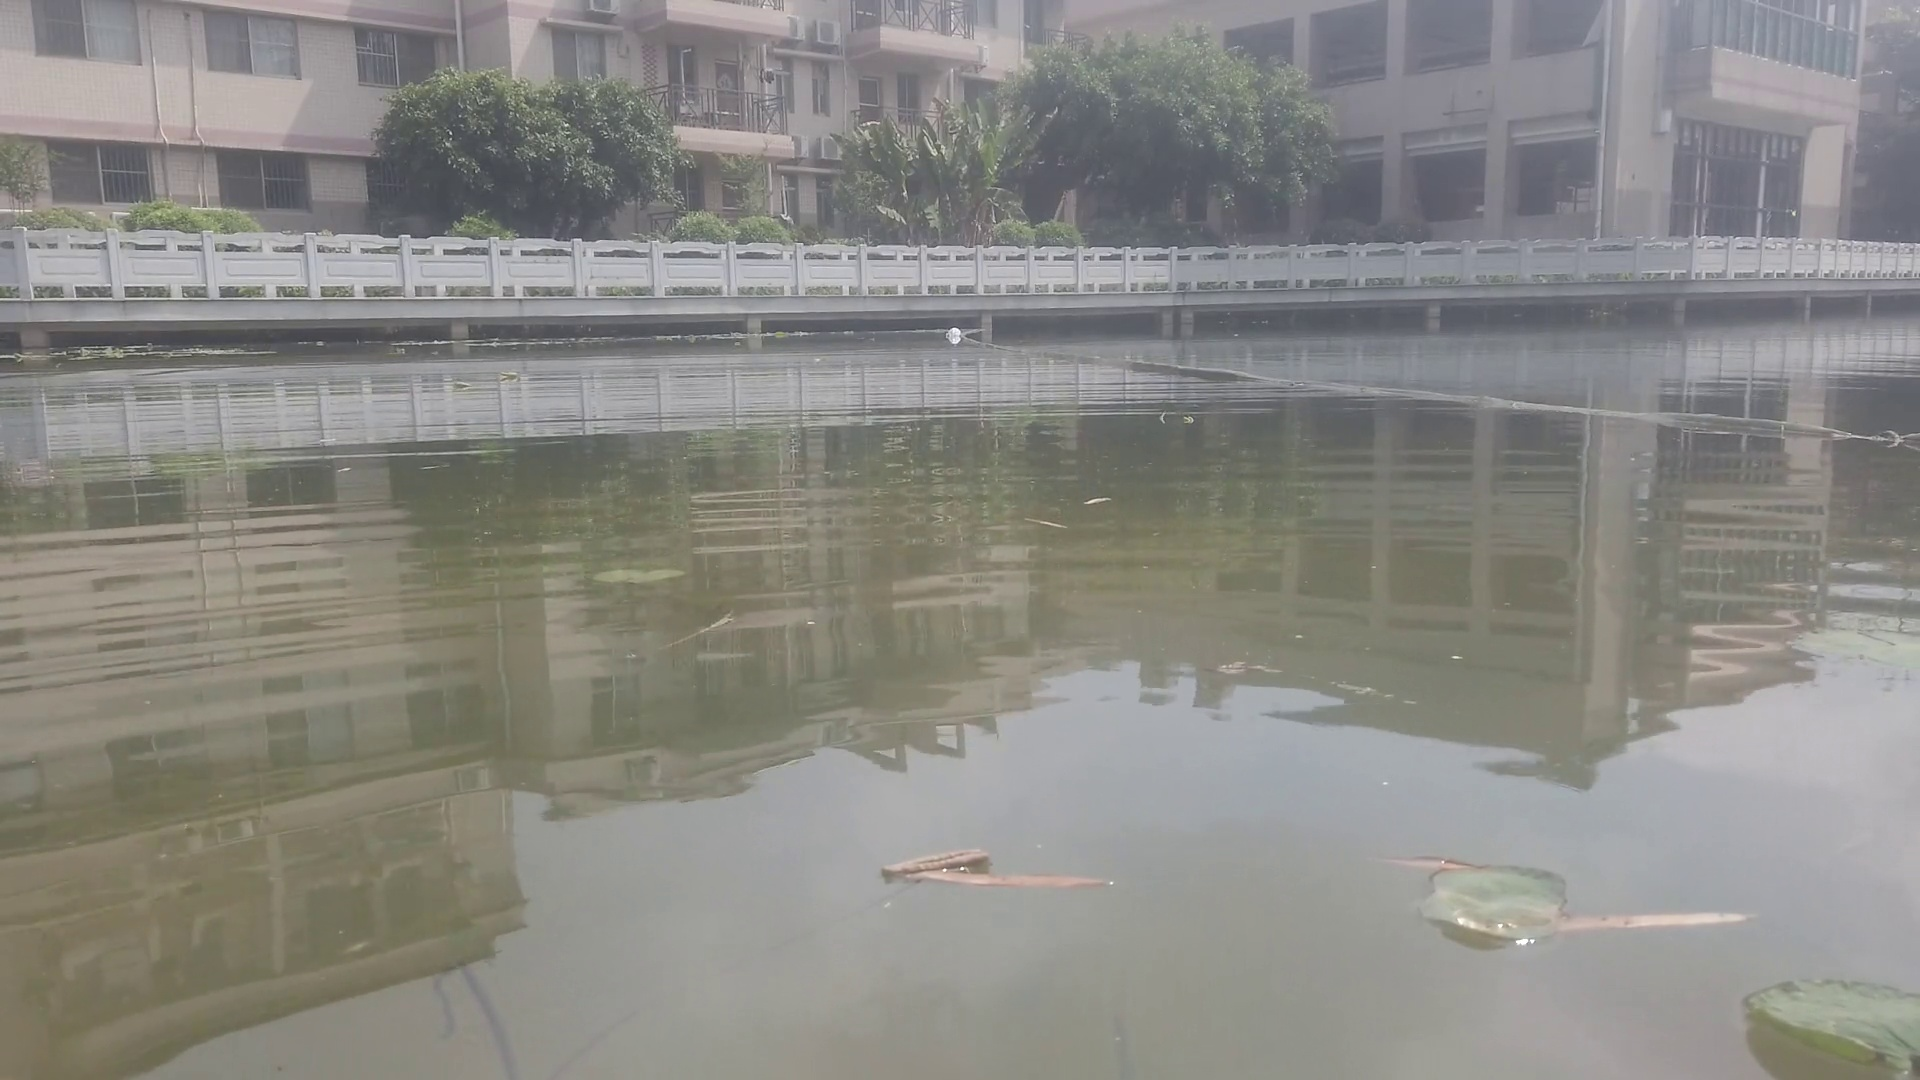plastic: (945, 326, 963, 339)
